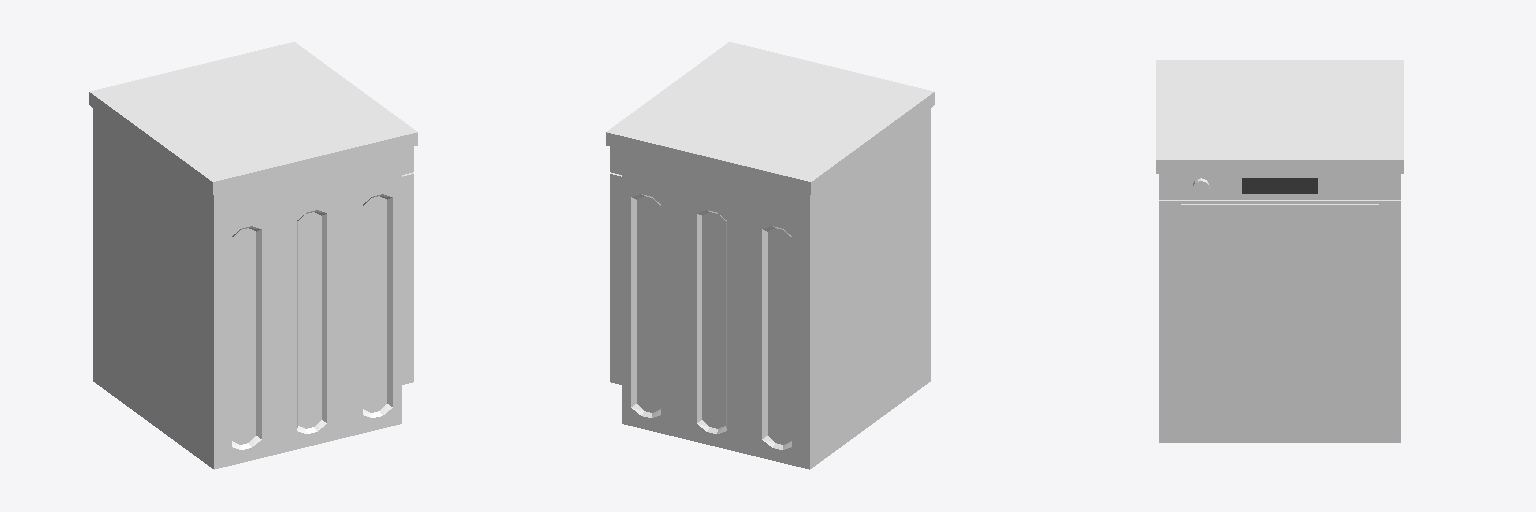
3 renders of one model, left to right at view 1: azimuth 30°, elevation 25°; view 2: azimuth 150°, elevation 25°; view 3: azimuth 270°, elevation 25°, orthographic.
Parts seen in each view (by area): view 1: Dishwasher; view 2: Dishwasher; view 3: Dishwasher.
Part boxes in pixels (bbox=[...]): Dishwasher: bbox=[89, 42, 417, 469]; Dishwasher: bbox=[606, 42, 934, 469]; Dishwasher: bbox=[1156, 60, 1403, 442].
Size of the model in its own units: 75.96 by 100 by 77.51.
Materials: 1 (1 with a texture image).